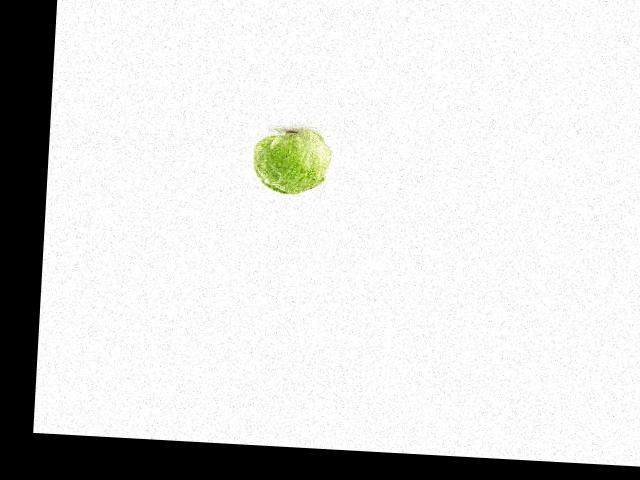lettuce: (241, 131, 333, 198)
